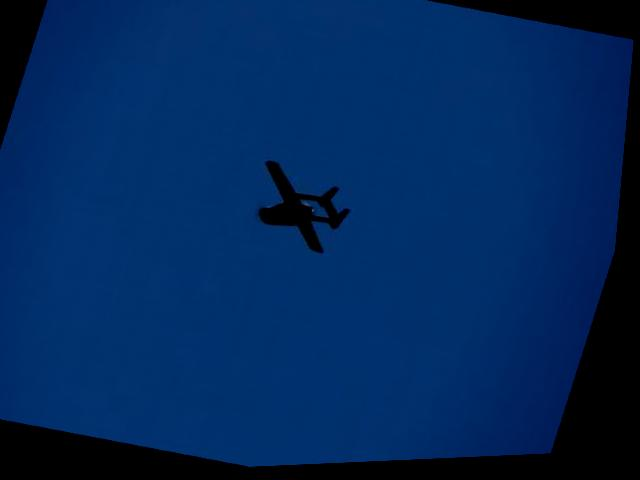uav: (241, 154, 371, 266)
